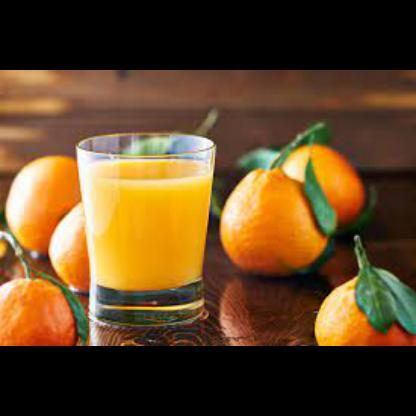orange juice: (80, 155, 214, 292)
